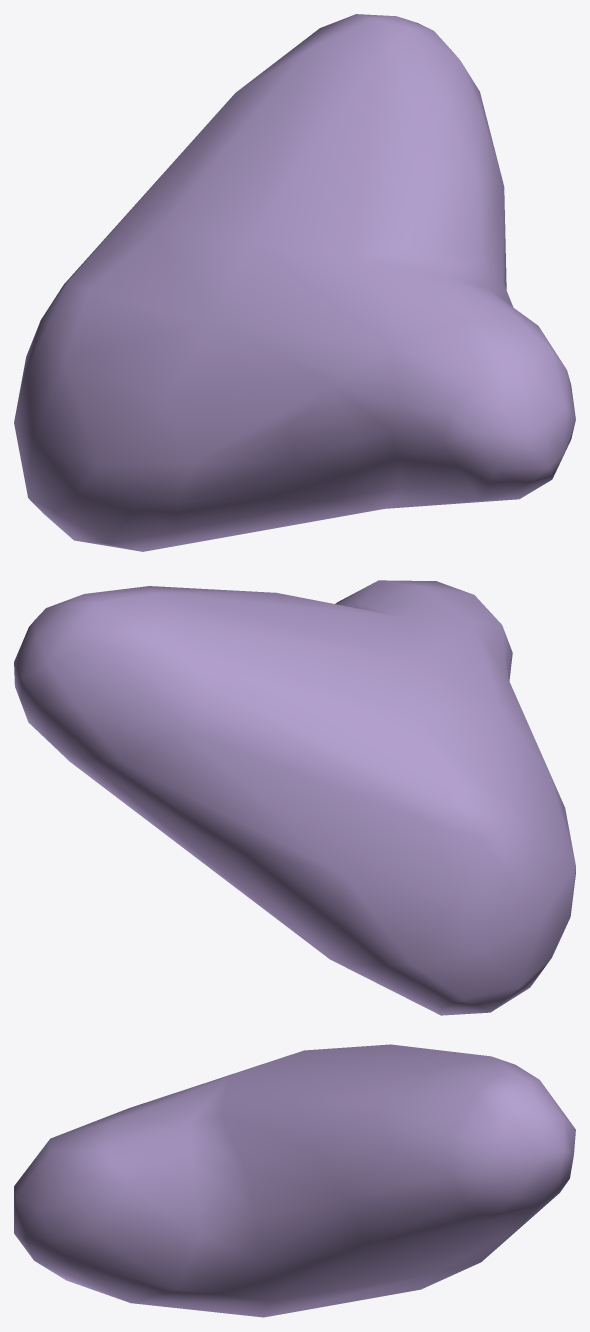
The picture shows the model from 3 angles, top to bottom: view 1: azimuth 30°, elevation 25°; view 2: azimuth 150°, elevation 25°; view 3: azimuth 270°, elevation 25°; orthographic projection. The views are drawn at different scales.
Visible parts, largest first — view 1: 左侧泪小管壶腹; view 2: 左侧泪小管壶腹; view 3: 左侧泪小管壶腹.
Boxes of the visible parts, x1=… form: 左侧泪小管壶腹: x1=14, y1=14, x2=575, y2=551; 左侧泪小管壶腹: x1=14, y1=580, x2=575, y2=1015; 左侧泪小管壶腹: x1=14, y1=1044, x2=575, y2=1317.
Bounding box in the file's own units: 0.00446 × 0.00339 × 0.00499.
